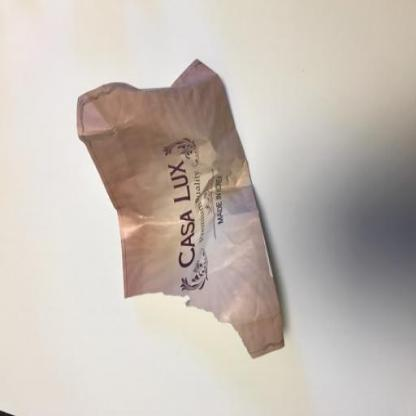trash: (71, 59, 285, 358)
